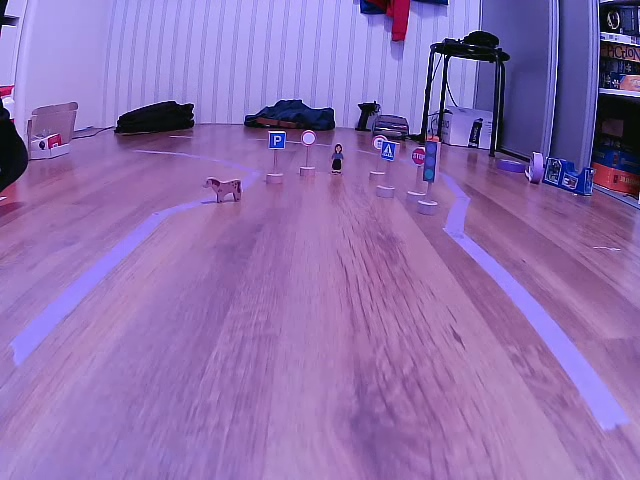groenlicht: (424, 140, 439, 182)
mens: (331, 143, 344, 174)
paard: (203, 178, 243, 201)
parkeerbord: (267, 130, 285, 150)
stopbord: (413, 148, 424, 165)
wegdicht: (301, 129, 315, 148)
zebrapad: (383, 141, 395, 161)
